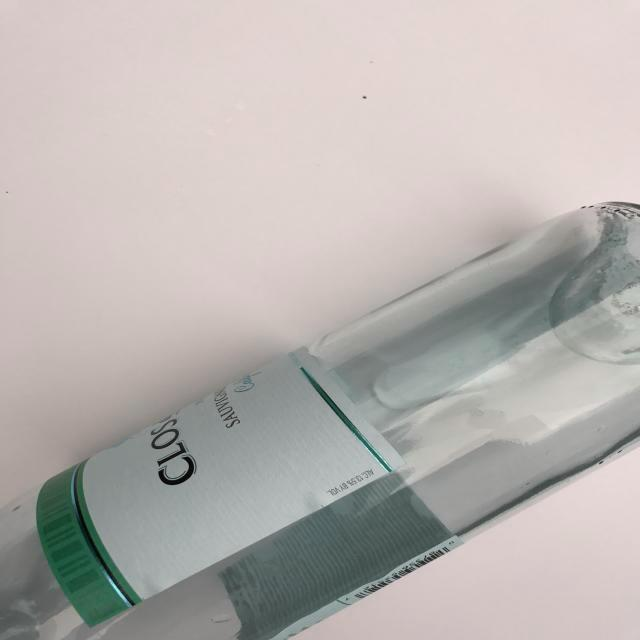glass: (0, 165, 640, 640)
